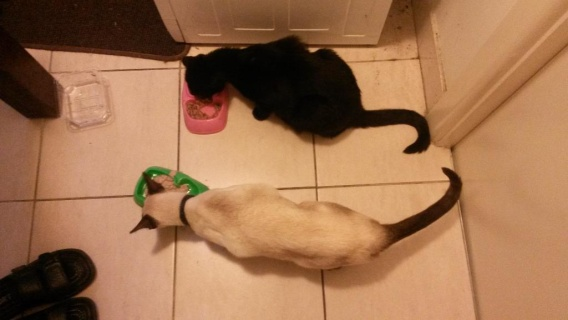Cat: (125, 162, 466, 278), (178, 31, 433, 155)
